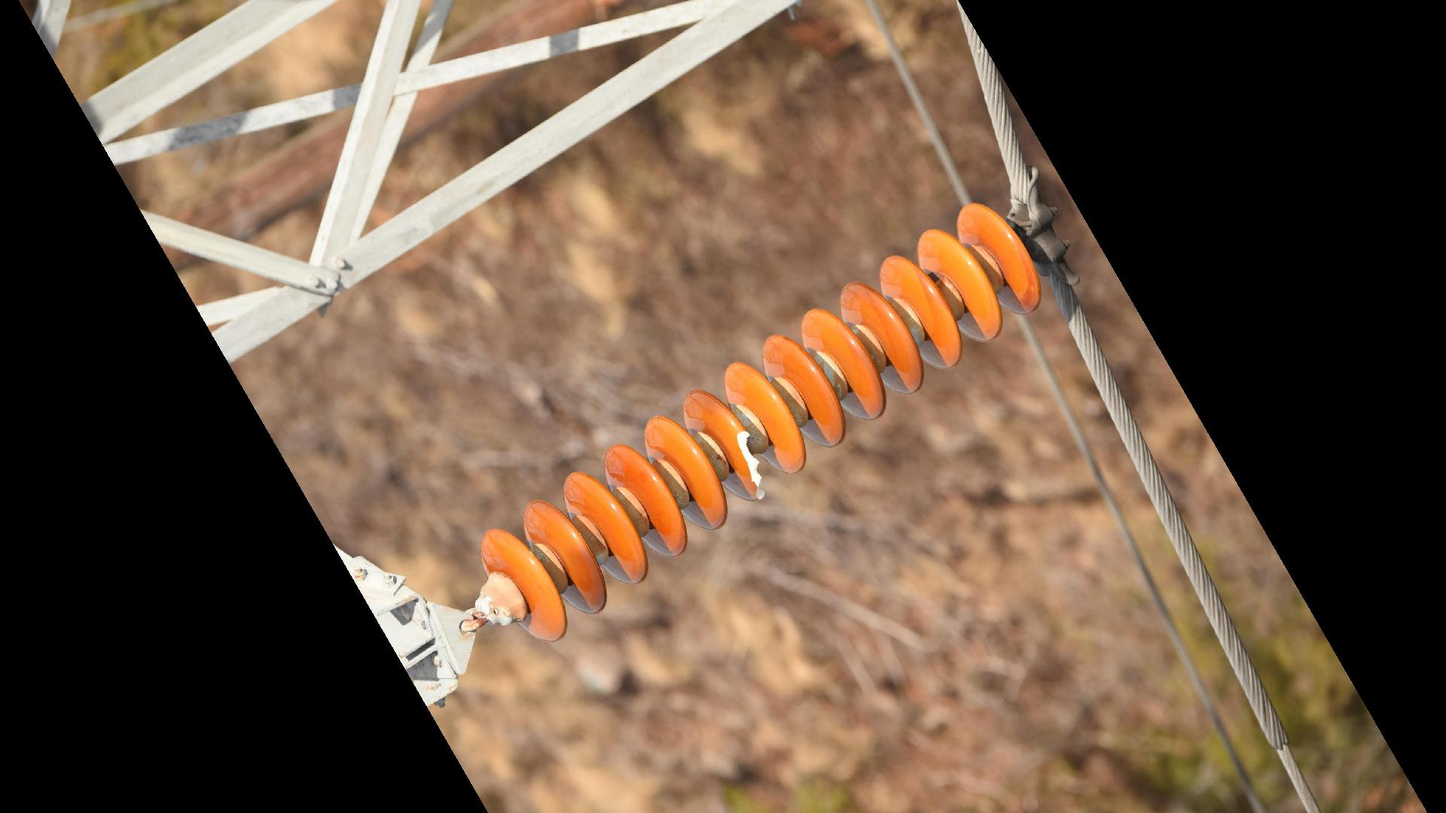insulator: (474, 196, 1047, 650)
insulator_breakage: (730, 423, 774, 506)
